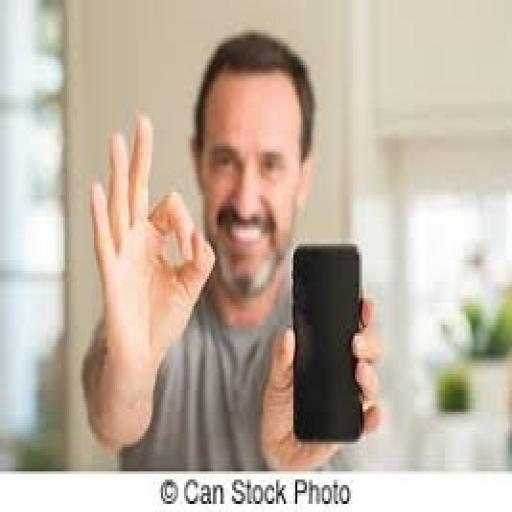texting: (78, 27, 384, 471)
